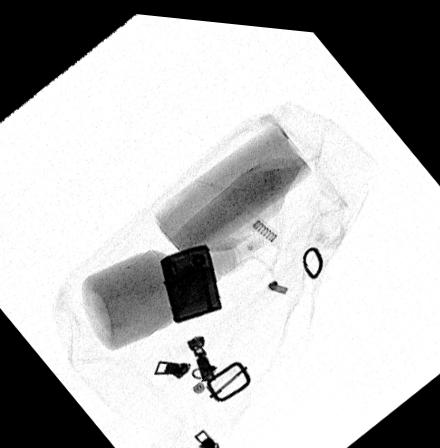Lighter: (157, 236, 221, 320)
